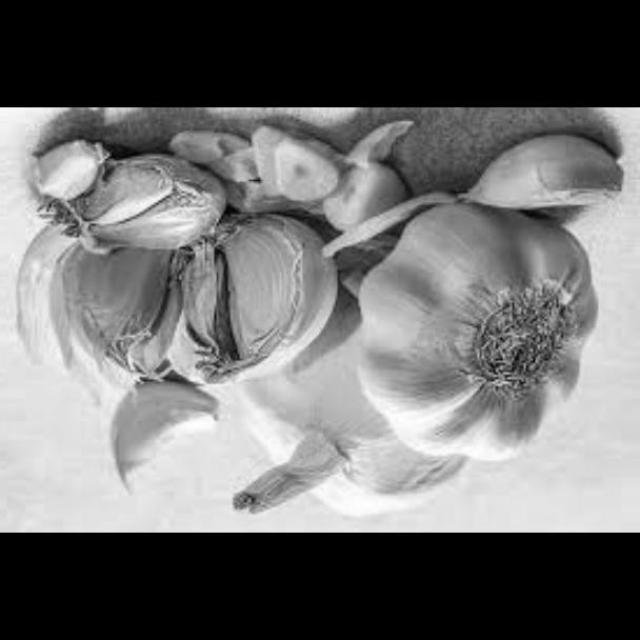cu toi: (352, 218, 596, 477), (229, 314, 468, 524), (156, 206, 340, 406), (24, 210, 184, 398), (49, 129, 228, 275), (232, 124, 421, 257), (107, 362, 238, 480), (454, 135, 632, 212)
